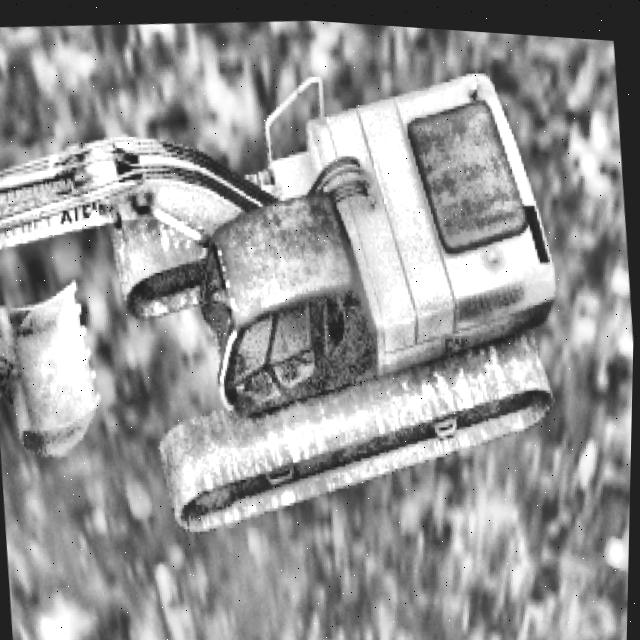excavator: (0, 33, 576, 561)
